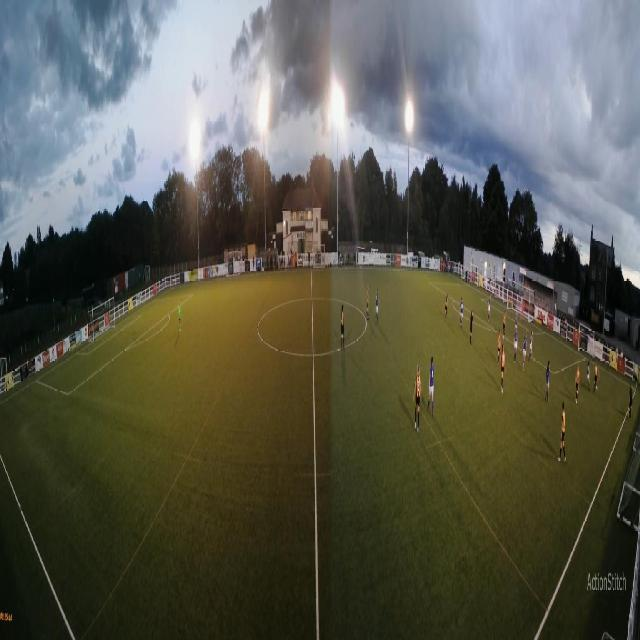ball: (596, 384, 598, 390)
player: (557, 400, 567, 465), (413, 364, 422, 435), (427, 355, 435, 417), (500, 344, 506, 395), (545, 358, 551, 404), (575, 364, 581, 405), (341, 304, 346, 351), (593, 363, 600, 394), (522, 332, 527, 372), (528, 330, 534, 362), (375, 287, 380, 325), (513, 327, 518, 365), (459, 296, 464, 330), (586, 360, 591, 392), (502, 310, 507, 341), (497, 328, 501, 366), (366, 285, 370, 322), (470, 310, 474, 346), (178, 299, 182, 334), (444, 294, 448, 323), (488, 293, 492, 322), (515, 311, 519, 333), (521, 300, 525, 321)
